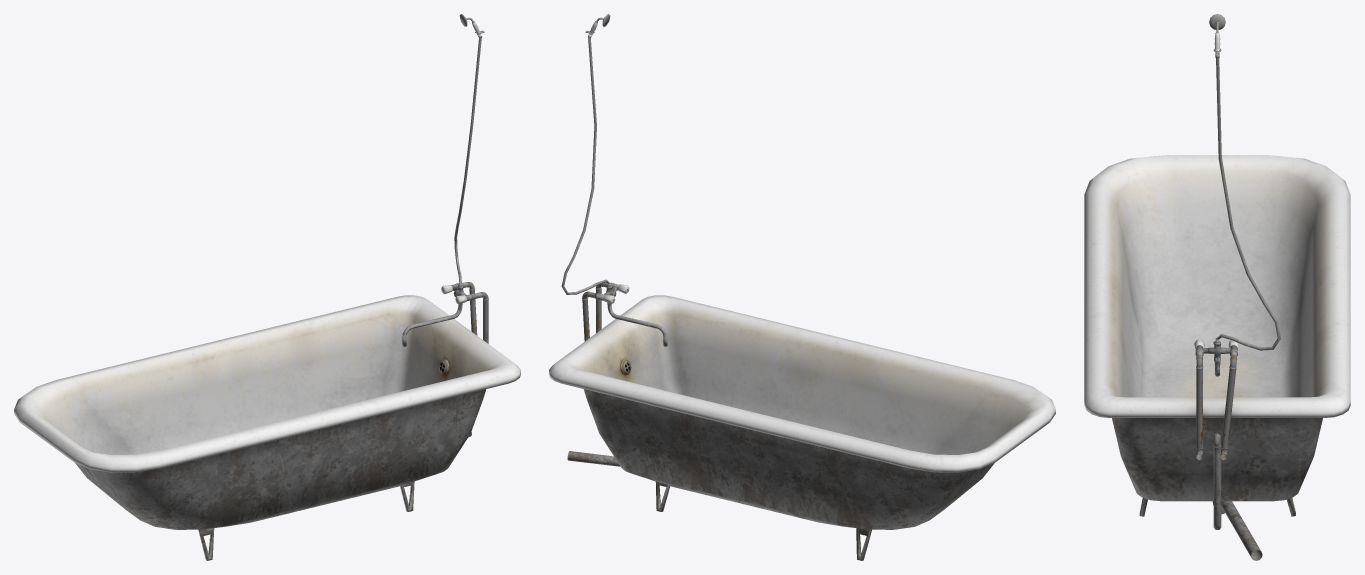
Rendered from old_ussr_bath.glb.
3 renders of one model, left to right at view 1: azimuth 30°, elevation 25°; view 2: azimuth 150°, elevation 25°; view 3: azimuth 270°, elevation 25°, orthographic. The views are drawn at different scales.
Visible parts, largest first — view 1: BezierCurve; view 2: BezierCurve; view 3: BezierCurve.
Part boxes in pixels (<box>): BezierCurve: <box>14,14,520,560</box>; BezierCurve: <box>549,14,1055,560</box>; BezierCurve: <box>1084,14,1350,560</box>.
Bounding box in the file's own units: 171 × 170 × 74.15.
1 material, 1 textured.
